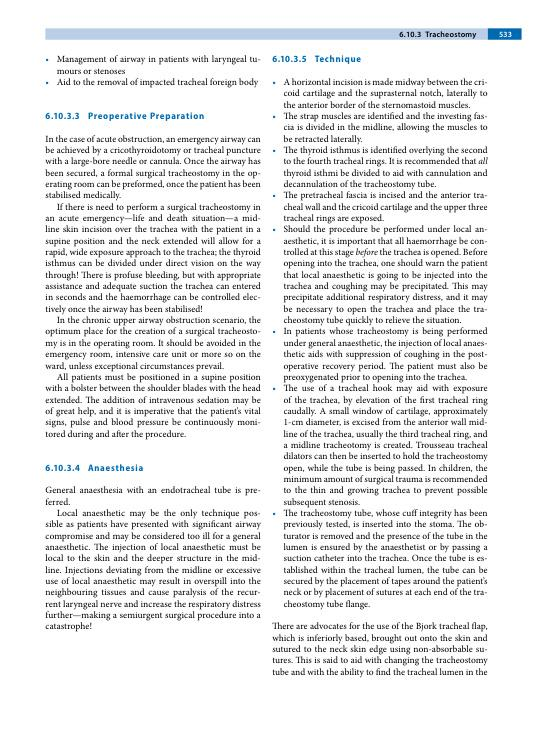header: (424, 30, 477, 39)
list: (270, 76, 489, 612), (43, 53, 261, 90)
sub-section-heading: (87, 111, 205, 122), (313, 54, 362, 65), (87, 463, 145, 472)
text: (44, 134, 261, 441), (44, 485, 262, 632), (270, 621, 489, 679)
